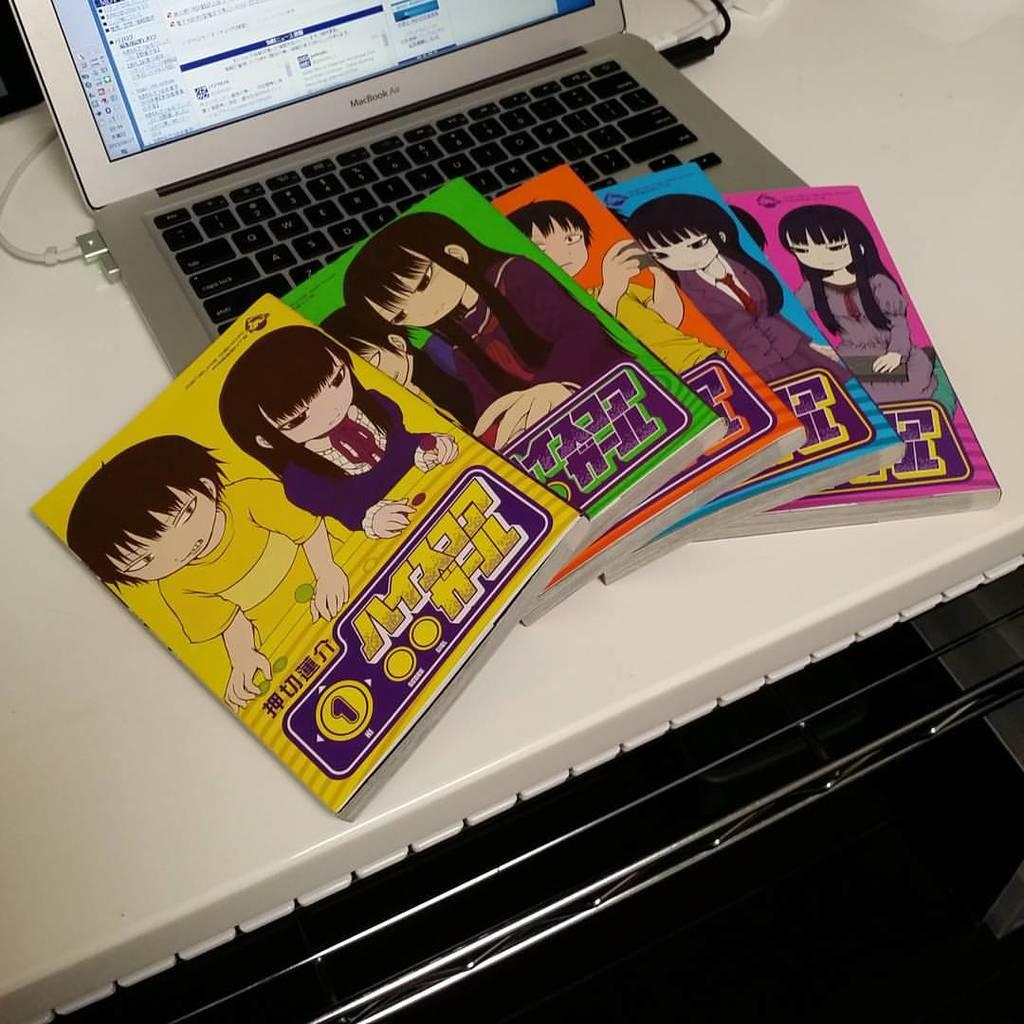Computer-keyboard: (154, 49, 731, 341)
Laptop: (15, 0, 836, 383)
